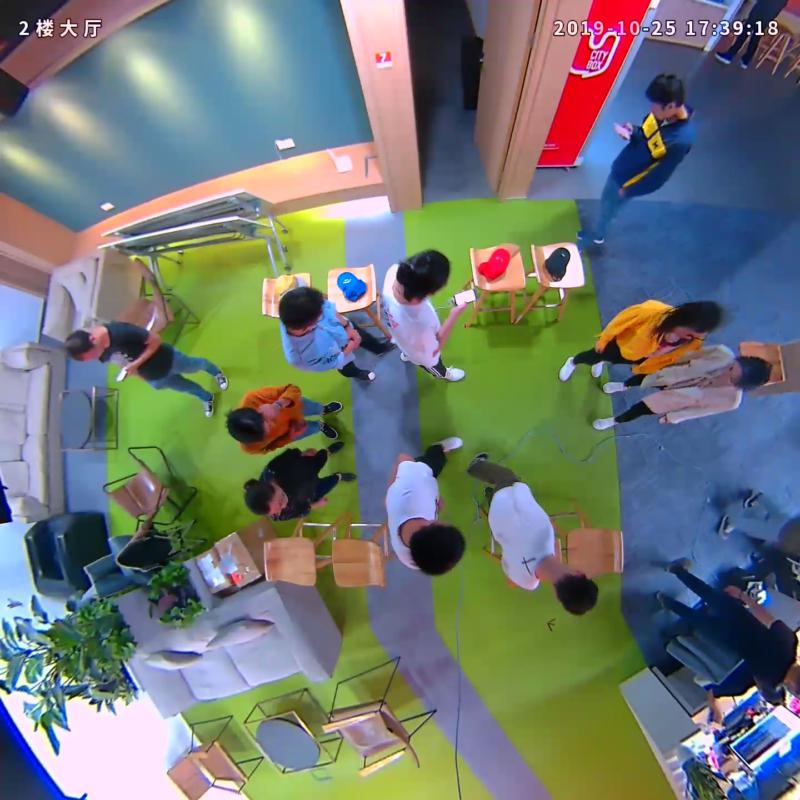head: (407, 520, 466, 577), (396, 249, 452, 296), (551, 566, 598, 617), (279, 286, 325, 333), (672, 301, 722, 341), (646, 73, 685, 122), (719, 354, 770, 389), (243, 477, 288, 515), (226, 407, 270, 443), (63, 329, 105, 360)
